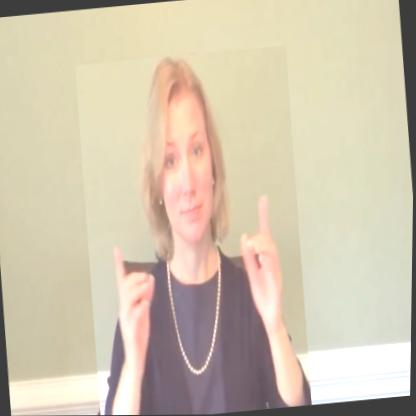NiceToMeetYou: (71, 45, 317, 416)
